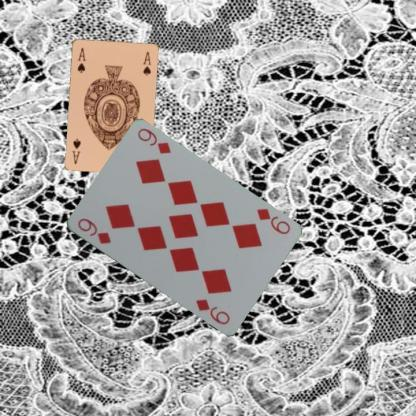9d: (75, 216, 112, 245), (254, 206, 291, 235)
As: (74, 45, 86, 74)
